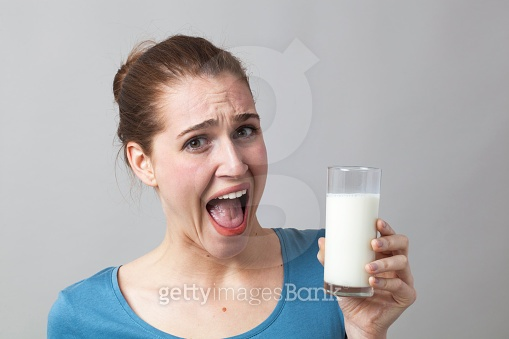glass of milk: (323, 154, 383, 300)
